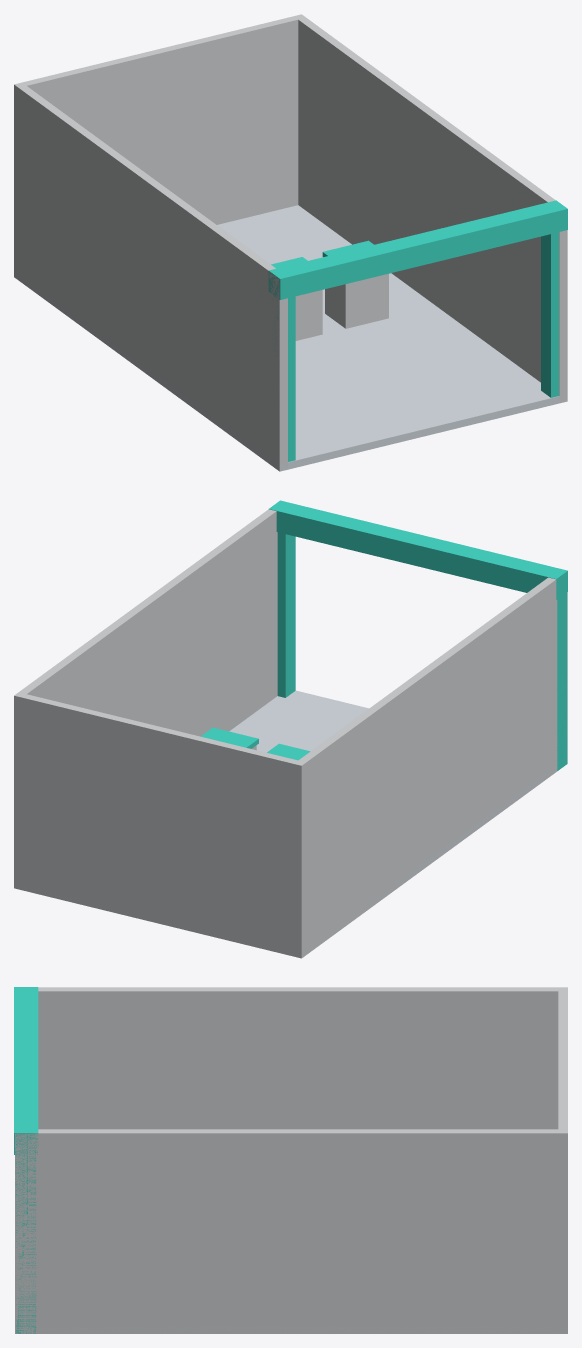
3 renders of one model, top to bottom at view 1: azimuth 30°, elevation 25°; view 2: azimuth 150°, elevation 25°; view 3: azimuth 270°, elevation 25°, orthographic. The views are drawn at different scales.
Parts seen in each view (by area): view 1: Exhibition Booth Concept; view 2: Exhibition Booth Concept; view 3: Exhibition Booth Concept.
Boxes of the visible parts, x1,y1,x2,y2 form: Exhibition Booth Concept: (14, 14, 567, 471); Exhibition Booth Concept: (14, 500, 567, 958); Exhibition Booth Concept: (14, 987, 567, 1333).
Size of the model in its own units: 5 by 3.2 by 8.01.
